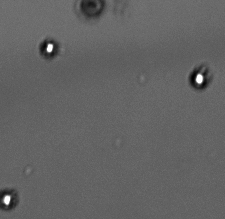Dead Cell: (79, 1, 104, 16)
Living Cell: (189, 67, 210, 90), (1, 188, 19, 212), (39, 39, 58, 57)
